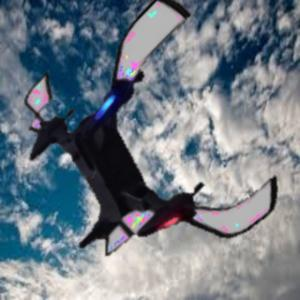drone: (18, 14, 291, 287)
